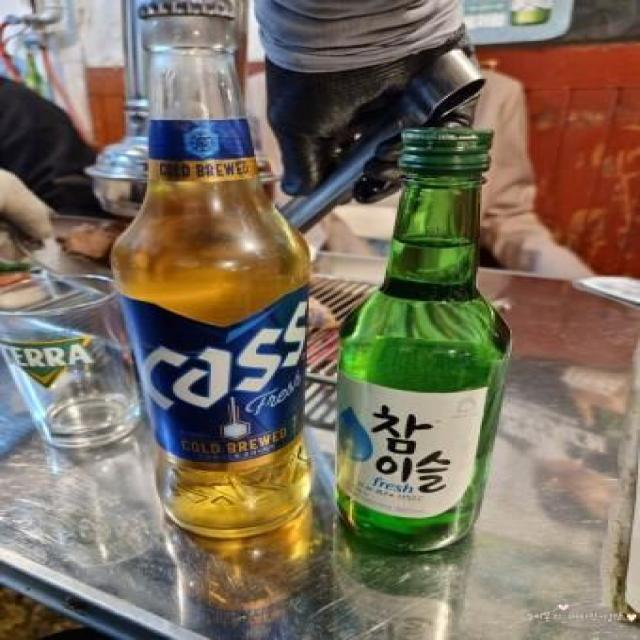beer-bottle: (127, 6, 304, 604)
soju-bottle: (317, 127, 545, 550)
